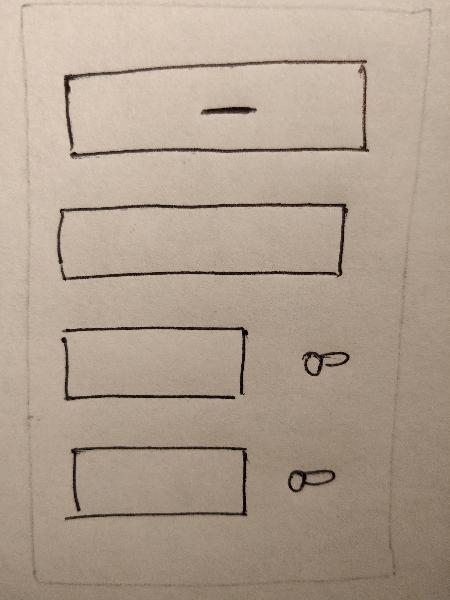button: (49, 48, 380, 170)
switch: (276, 452, 351, 512), (291, 336, 359, 388)
text_input: (46, 197, 355, 289), (49, 319, 260, 409), (56, 438, 260, 531)
